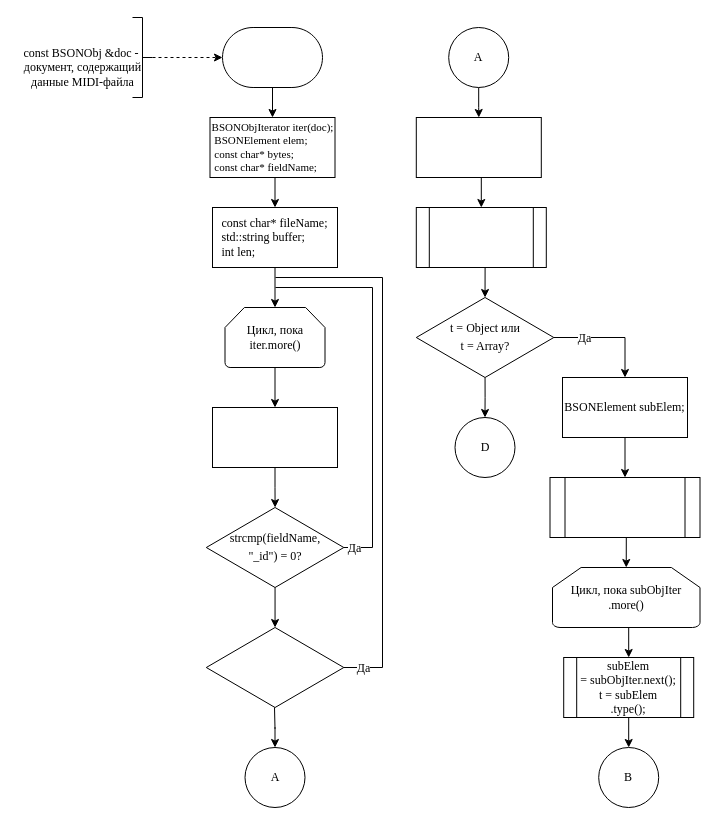
This 717x825 diagram has some shape labels left out. Here are the shapes that lost their labels. From the top down, the centre of each, then its label:
(272,57): Начало
(478,147): BSONType t;
(480,237): t = elem.type();
(275,437): elem = iter.next(); fieldName = elem.FieldName()
(624,507): BSONObj subObj = elem.embeddedObject(); BSONObjIterator subObjIter(subObj);
(274,667): strcmp(fieldName, "Name") = 0?
